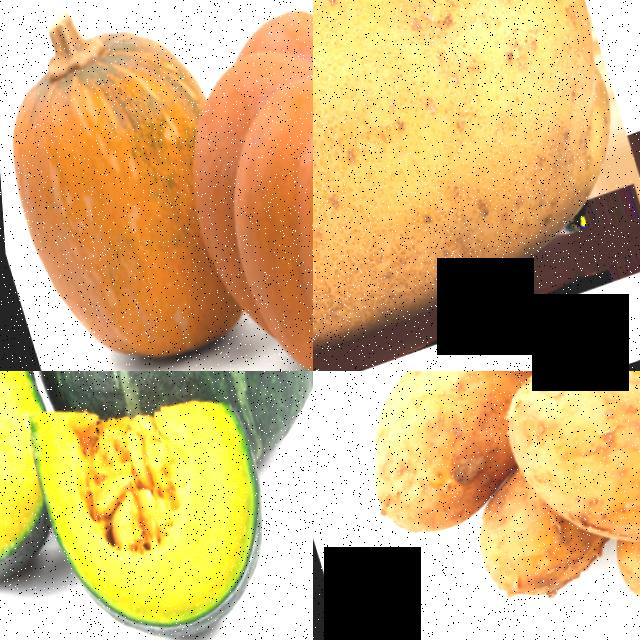potato: (313, 0, 640, 371), (332, 371, 535, 556), (481, 371, 640, 599), (450, 478, 580, 626)
pumpkin: (0, 0, 237, 371), (16, 371, 288, 640), (142, 0, 313, 371), (0, 371, 313, 440), (0, 371, 60, 618)
